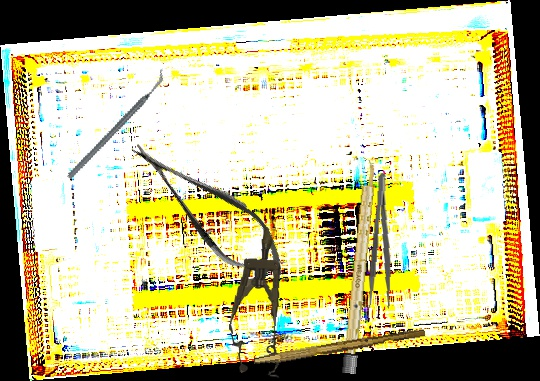Chopper: (43, 68, 189, 181)
Dressing Forceps: (366, 171, 400, 311)
Micro Scissor: (116, 122, 302, 297)
Scalpel Handle: (341, 159, 379, 375), (253, 324, 426, 371)
Speculum: (224, 224, 295, 379)
